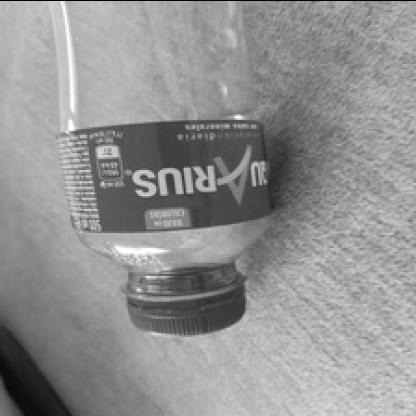plastic_bottles: (72, 0, 270, 337)
